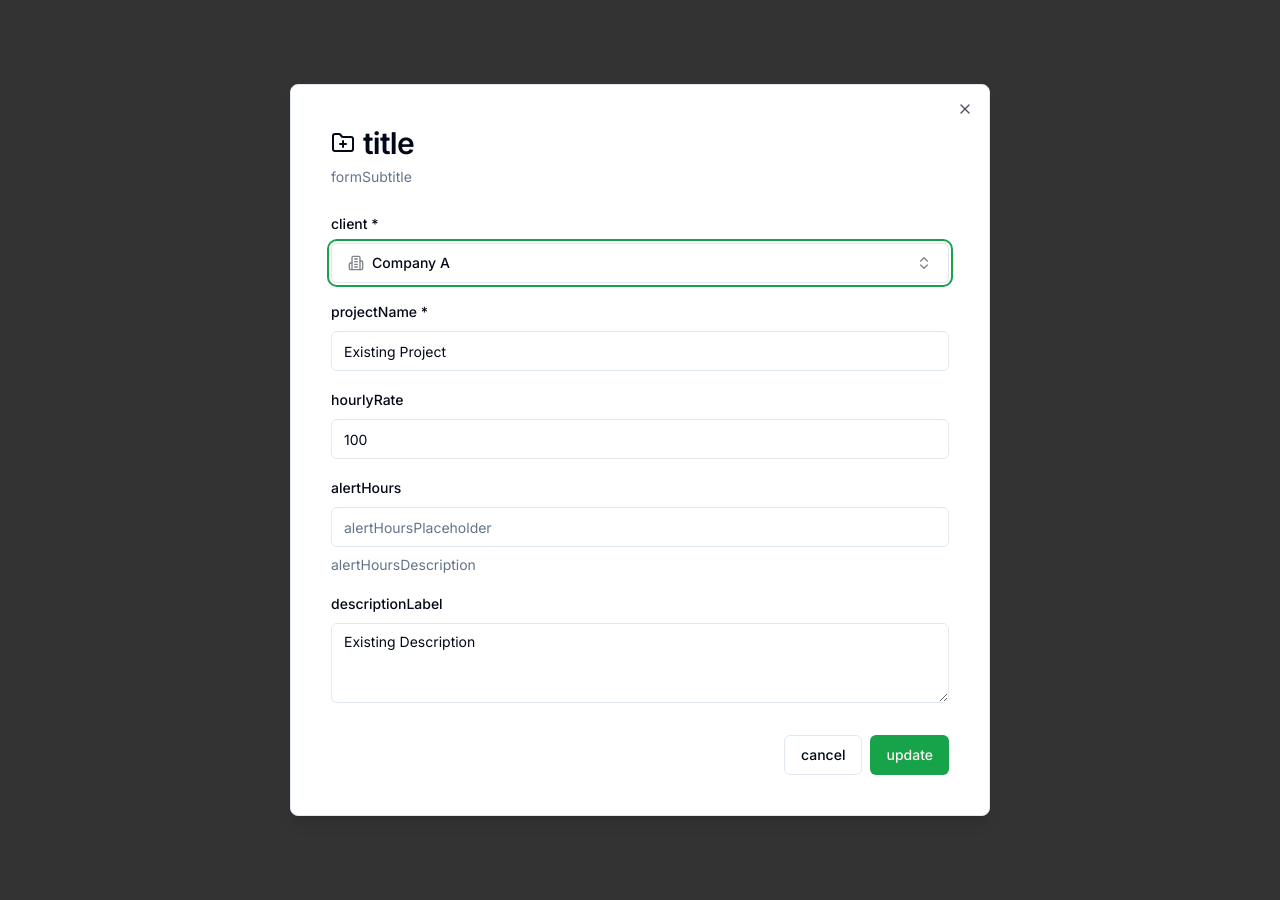
ProjectEditDialog › validates negative alert hours
The image size is (1280, 900).
Type "-10" into the number field labelled "alertHours". click: (640, 527)
box: left=331, top=507, right=949, bottom=547
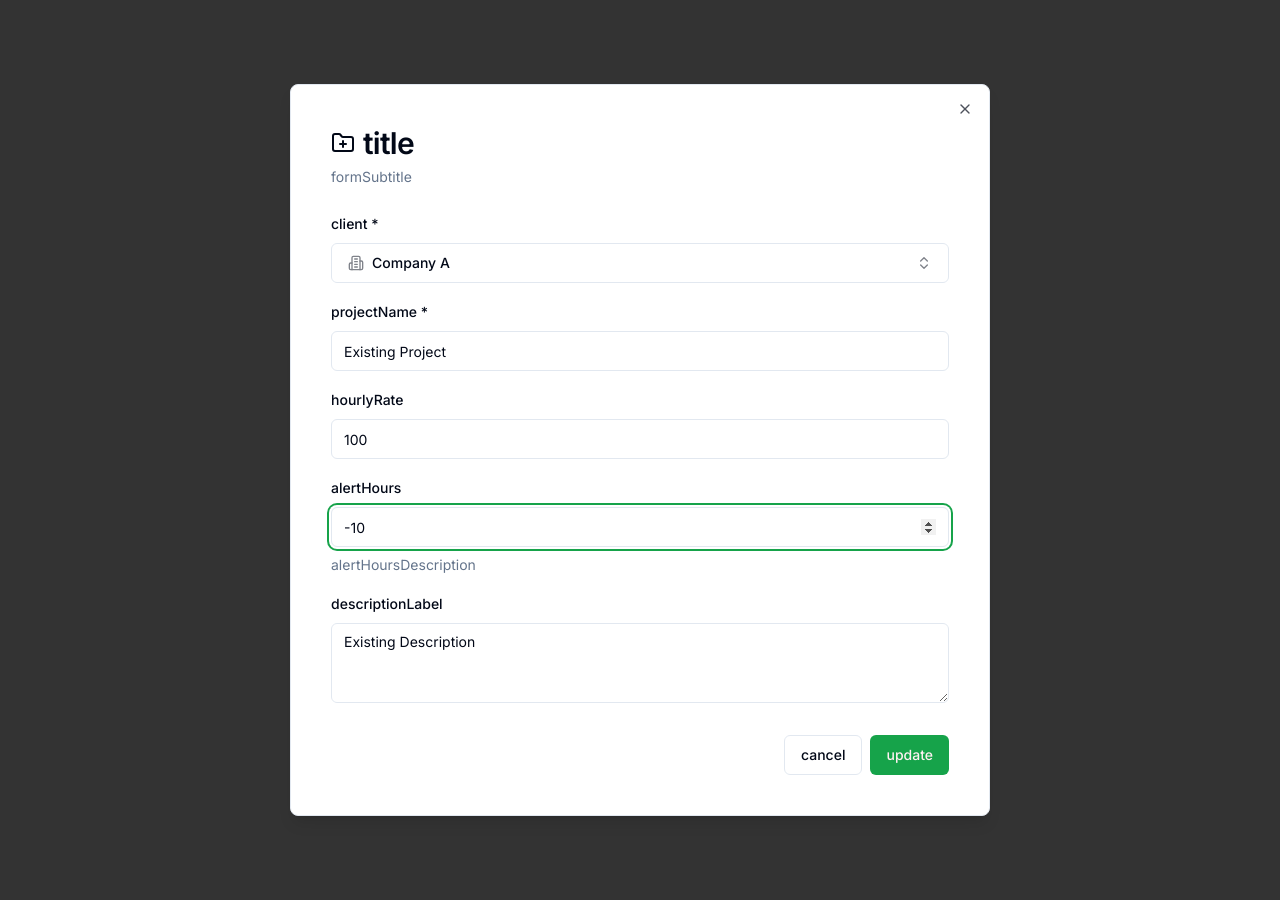
Click the button "update". click: click(910, 755)
box: left=870, top=735, right=949, bottom=775
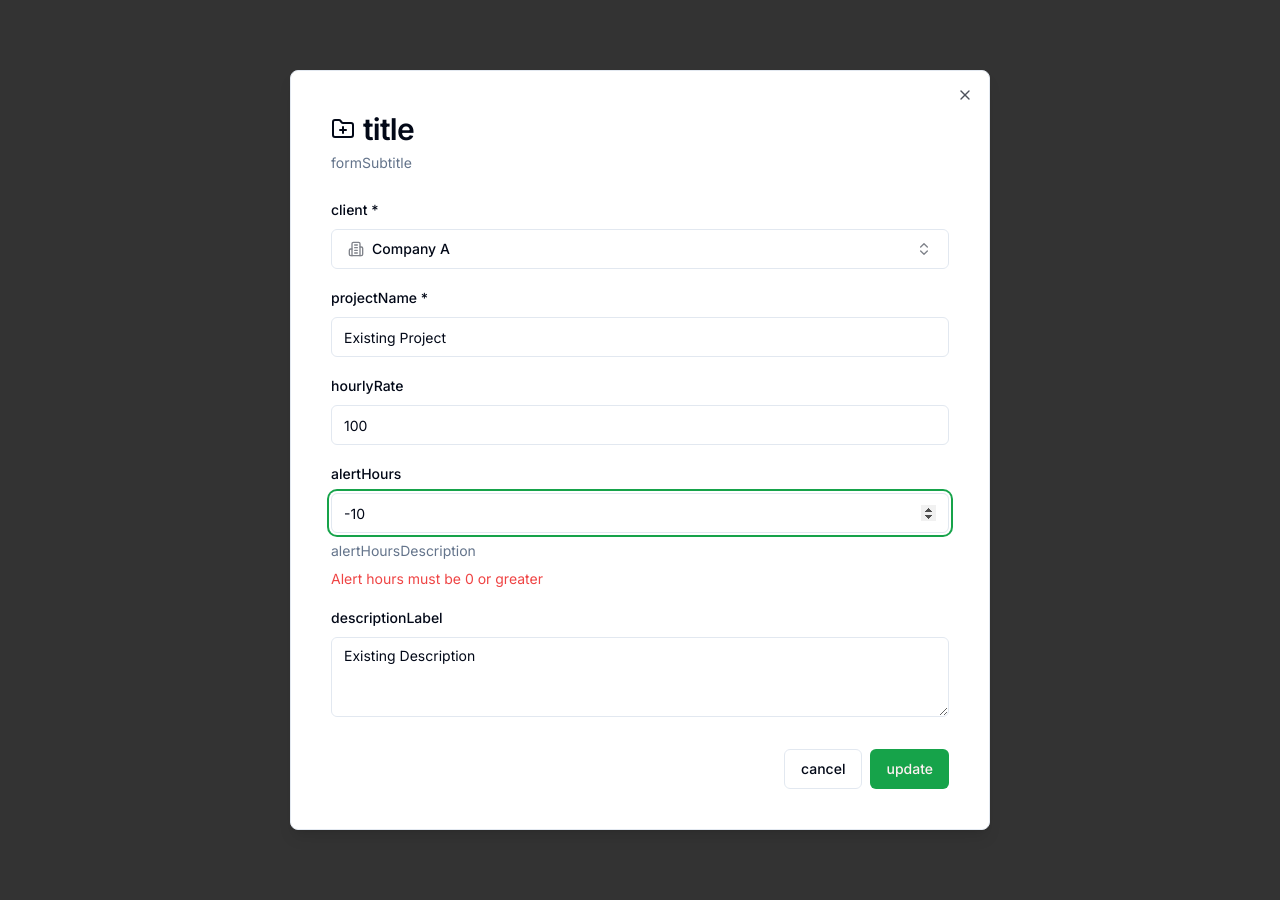
Now the text "Alert hours must be 0 or greater" is shown, box left=331, top=570, right=543, bottom=587
